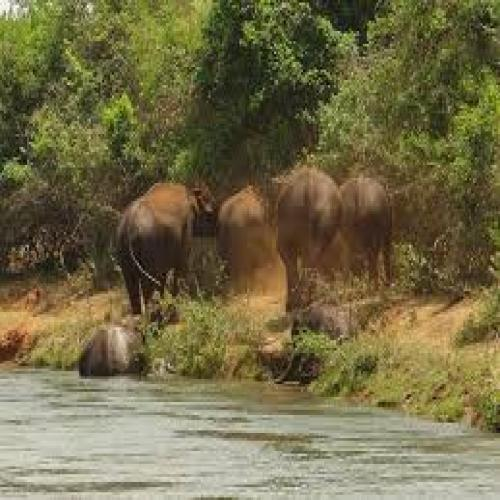asian_elephant-endangered: (114, 184, 200, 315), (274, 168, 342, 309), (337, 176, 394, 284), (216, 188, 269, 268)
